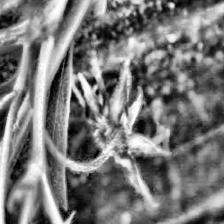Gray Mold: (71, 58, 172, 207)
